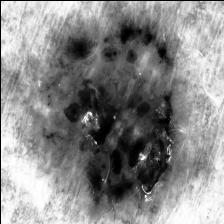Potentially Malignant Skin Tumors: (47, 33, 164, 210)
